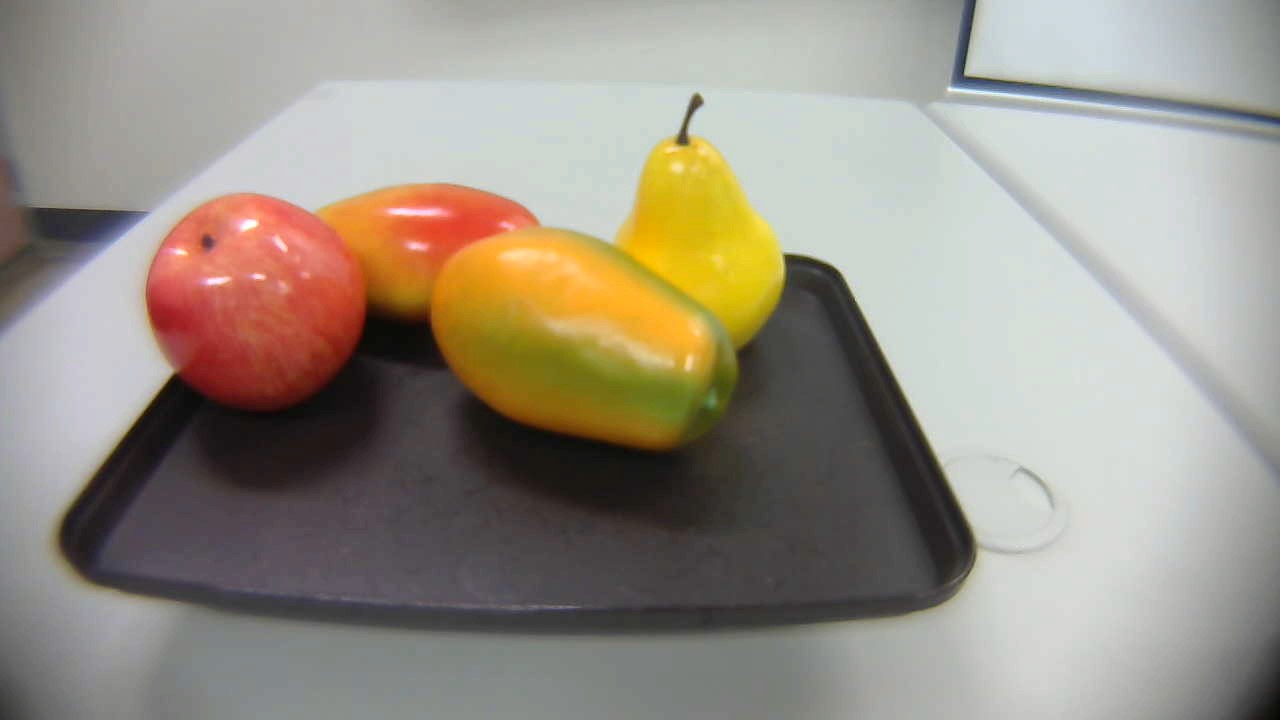papya: (432, 224, 752, 469)
red apple: (143, 184, 383, 411)
red mango: (320, 179, 553, 343)
yellow pear: (617, 89, 787, 353)
